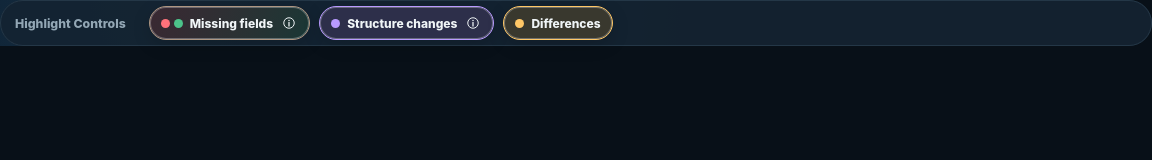
Scenario: HighlightControls › keeps the missing-fields highlight toggle simple, moving the Baseline/Candidate color legend to a hover detail
Expected: the button "Missing fields" does not show "Only in Baseline", x1=161 y1=16 x2=273 y2=30
Hover over the button named "Missing-fields highlight colors" at (289, 23), box x1=280 y1=14 x2=298 y2=32
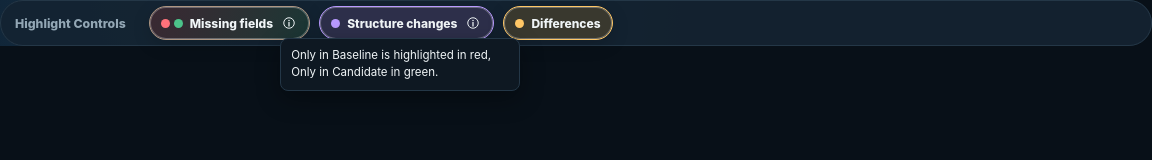
Now the tooltip reads "Only in Baseline is highlighted in red, Only in Candidate in green.", box x1=291 y1=48 x2=491 y2=79
